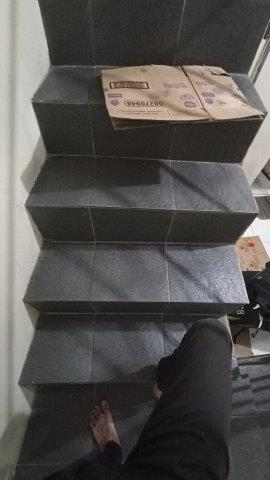kardus: (103, 66, 263, 128), (236, 237, 270, 272)
